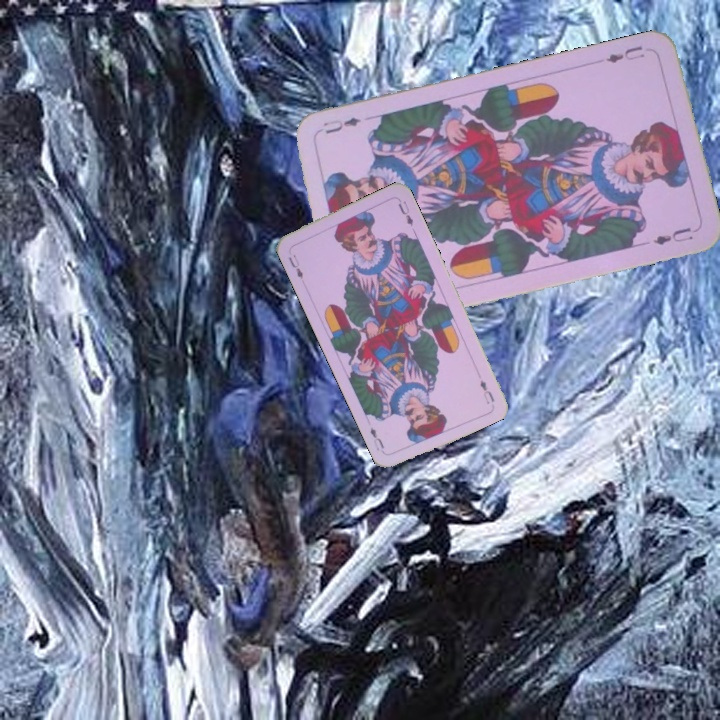EU: (602, 42, 647, 66), (284, 250, 306, 282), (476, 376, 497, 406)
